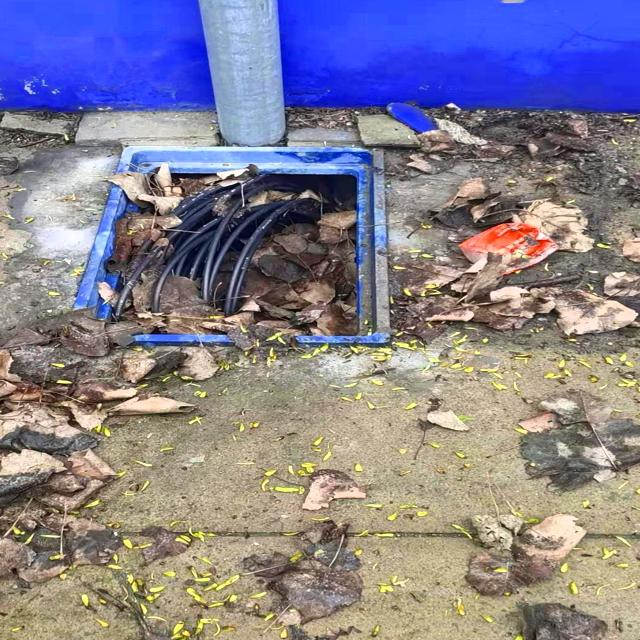lose: (71, 138, 407, 349)
